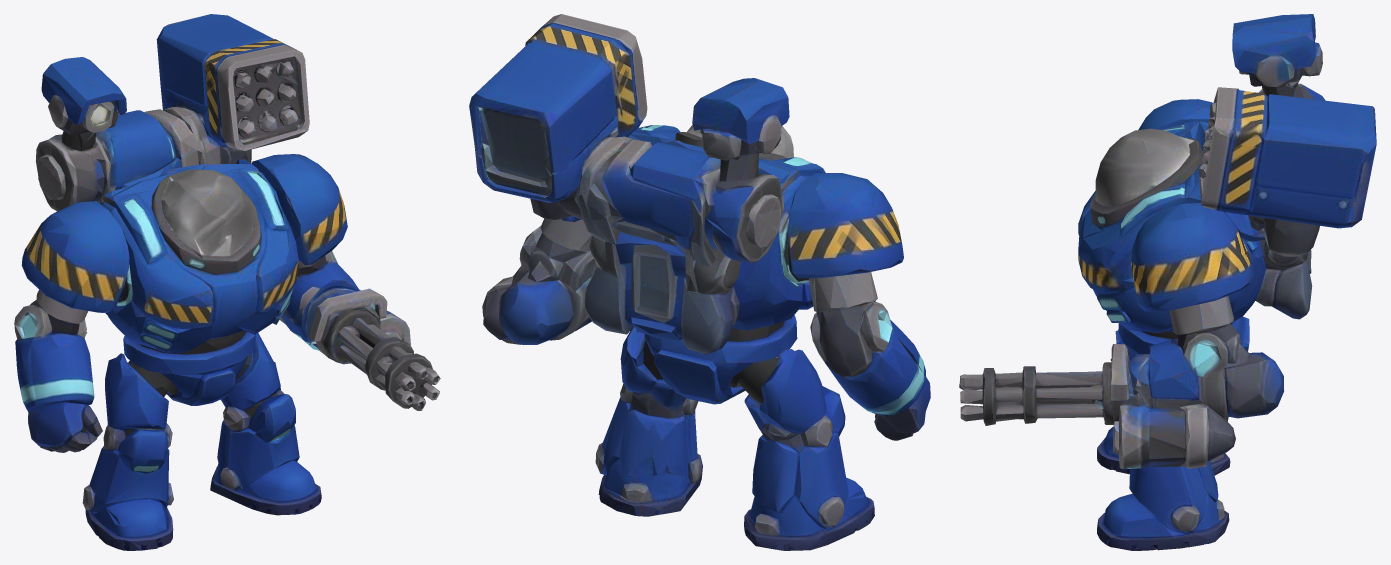
Rendered from glb-mech.glb.
3 renders of one model, left to right at view 1: azimuth 30°, elevation 25°; view 2: azimuth 150°, elevation 25°; view 3: azimuth 270°, elevation 25°, orthographic. The views are drawn at different scales.
Size of the model in its own units: 1.73 by 1.9 by 1.61.
1 material, 1 textured.
